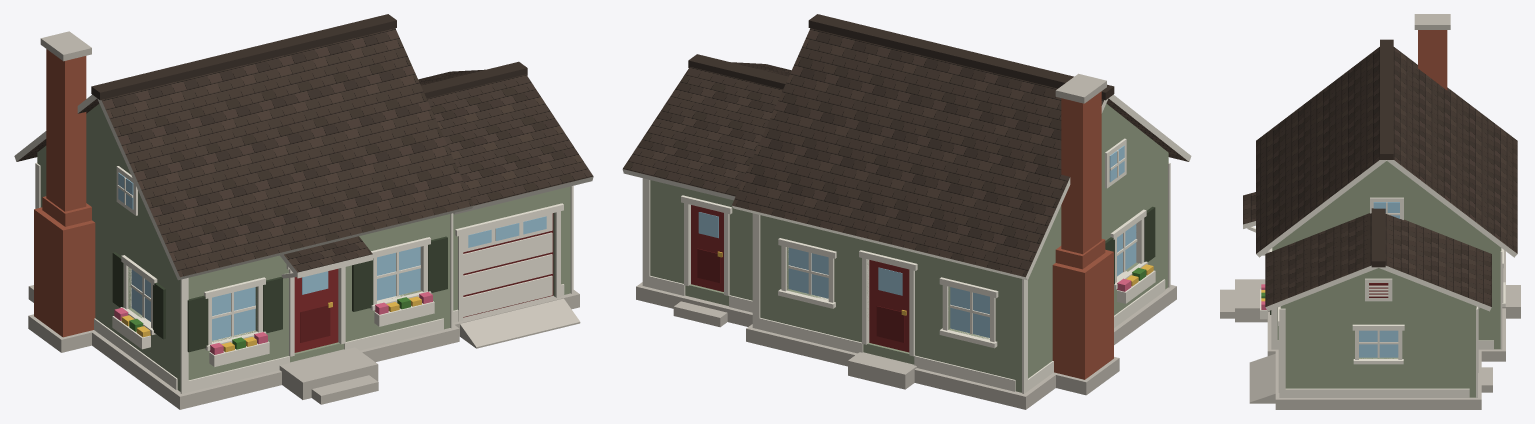
File: base-01-level2.glb
The picture shows the model from 3 angles, left to right: view 1: azimuth 30°, elevation 25°; view 2: azimuth 150°, elevation 25°; view 3: azimuth 270°, elevation 25°; orthographic projection. The views are drawn at different scales.
Parts seen in each view (by area): view 1: base_house_1_finished, piece_garage; view 2: base_house_1_finished, piece_garage; view 3: base_house_1_finished, piece_garage.
Boxes of the visible parts, box(x1,y1,x2,y2) form: base_house_1_finished: box(14, 14, 473, 409); piece_garage: box(418, 61, 593, 348); base_house_1_finished: box(732, 14, 1191, 409); piece_garage: box(622, 54, 791, 327); base_house_1_finished: box(1220, 14, 1520, 361); piece_garage: box(1249, 208, 1492, 409).
Size of the model in its own units: 12.39 by 7.79 by 9.2.
15 materials, 1 textured.
